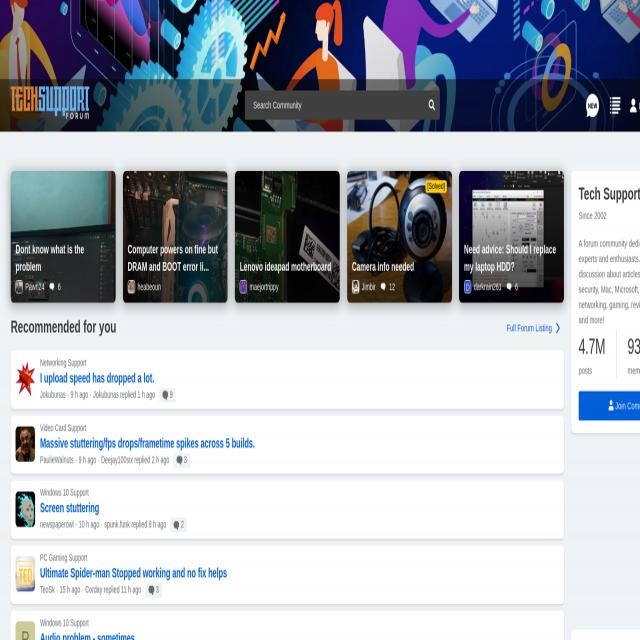button: (10, 171, 116, 304), (234, 171, 340, 303), (459, 171, 564, 303), (124, 172, 229, 304), (348, 172, 452, 302), (10, 86, 90, 119), (579, 391, 640, 422), (15, 426, 35, 462), (15, 556, 35, 592), (15, 362, 35, 396), (15, 492, 35, 526), (625, 92, 640, 121), (585, 92, 600, 119), (608, 92, 622, 119), (240, 281, 247, 292), (352, 281, 359, 292), (128, 281, 134, 292), (16, 281, 22, 292)
field: (245, 91, 440, 120)
